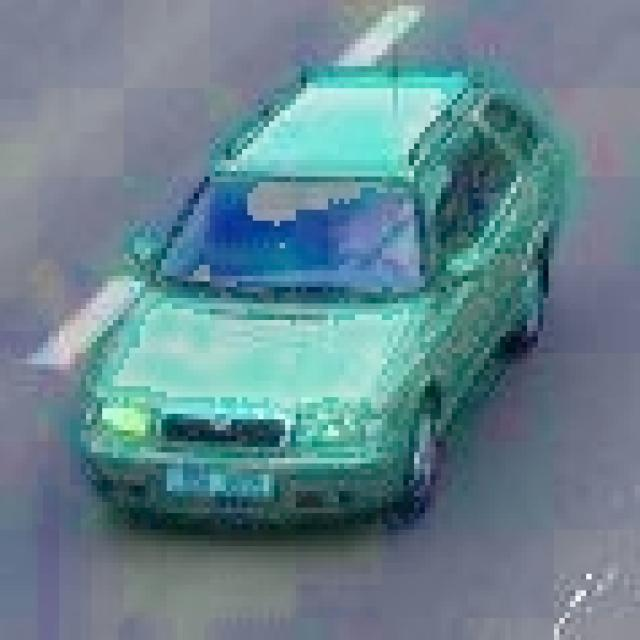green: (89, 74, 562, 538)
